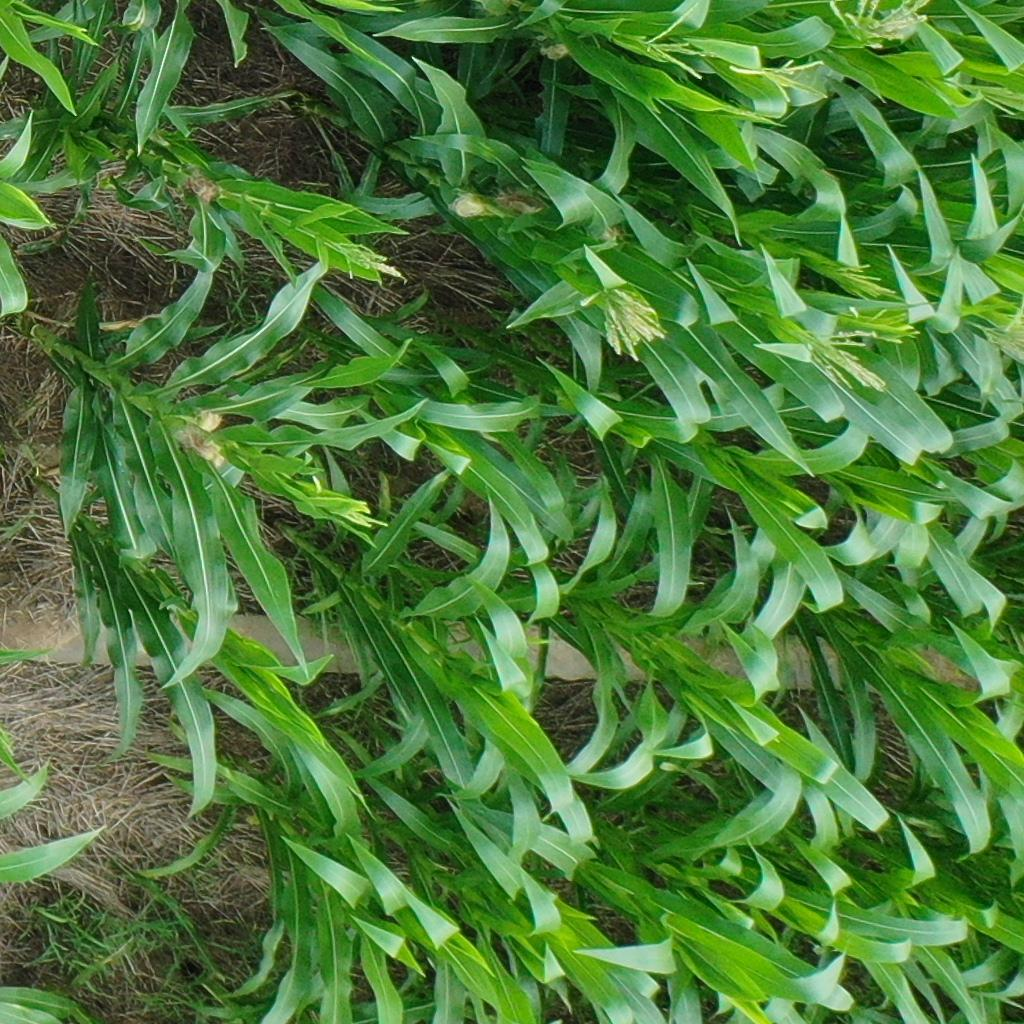Tassel: (791, 322, 891, 397), (577, 284, 667, 364), (631, 2, 713, 84), (829, 1, 934, 53), (726, 55, 829, 105), (323, 234, 409, 289), (846, 305, 922, 349), (326, 487, 390, 532), (977, 305, 1024, 364), (832, 261, 894, 296)
